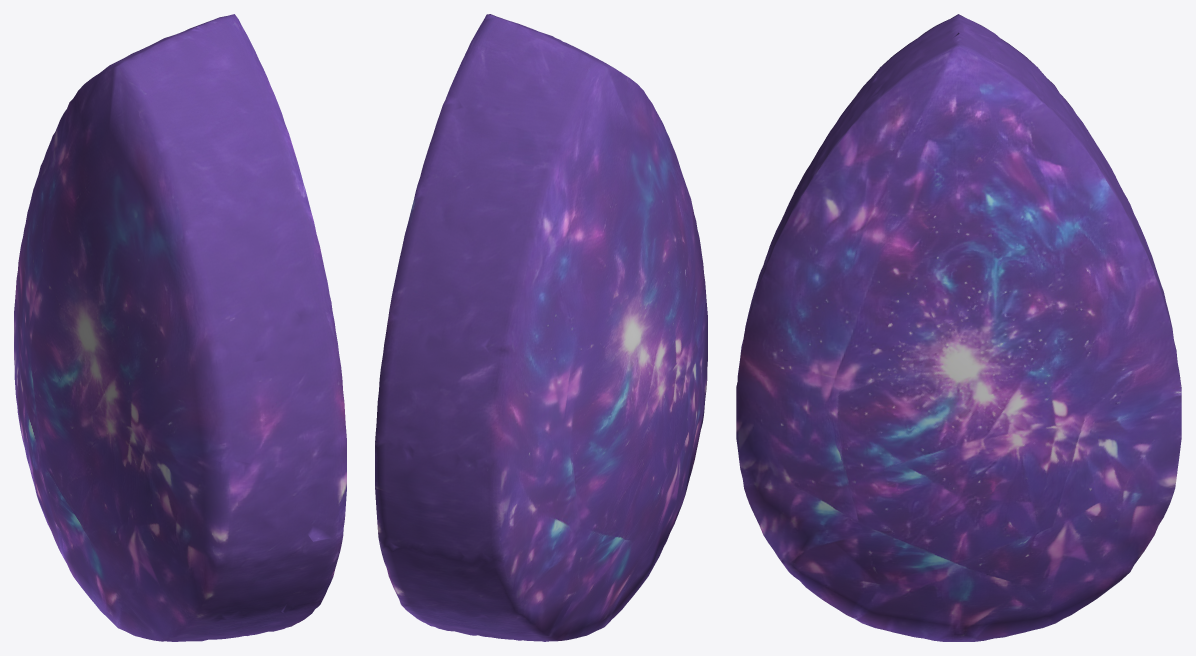
File: purple+diamond+3d+model.glb
The picture shows the model from 3 angles, left to right: view 1: azimuth 30°, elevation 25°; view 2: azimuth 150°, elevation 25°; view 3: azimuth 270°, elevation 25°; orthographic projection.
Visible parts, largest first — view 1: tripo_node_299b0085-363b-4e00-9af1-14eab07b7d0a; view 2: tripo_node_299b0085-363b-4e00-9af1-14eab07b7d0a; view 3: tripo_node_299b0085-363b-4e00-9af1-14eab07b7d0a.
Part boxes in pixels (<box>): tripo_node_299b0085-363b-4e00-9af1-14eab07b7d0a: <box>14,14,346,641</box>; tripo_node_299b0085-363b-4e00-9af1-14eab07b7d0a: <box>375,14,707,641</box>; tripo_node_299b0085-363b-4e00-9af1-14eab07b7d0a: <box>736,14,1181,641</box>.
Size of the model in its own units: 0.3457 by 0.998 by 0.6777.
1 material, 1 textured.
